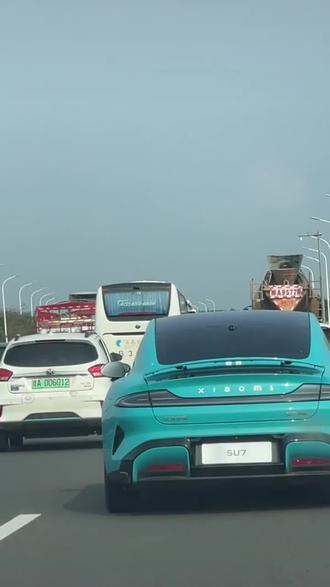other: (2, 333, 118, 452)
su7: (100, 313, 330, 509)
